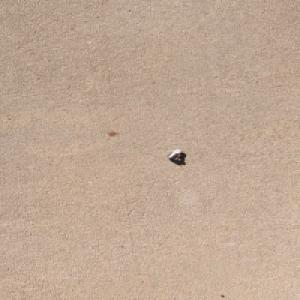MetalPart: (165, 148, 184, 162)
